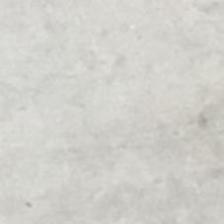Non_Crack: (27, 24, 193, 158)
